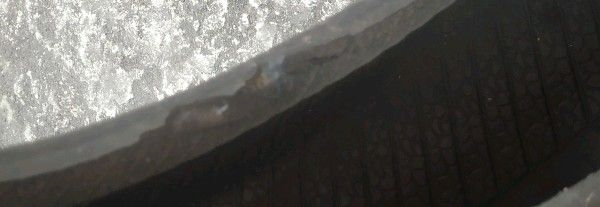bead_damage: (98, 0, 453, 185)
